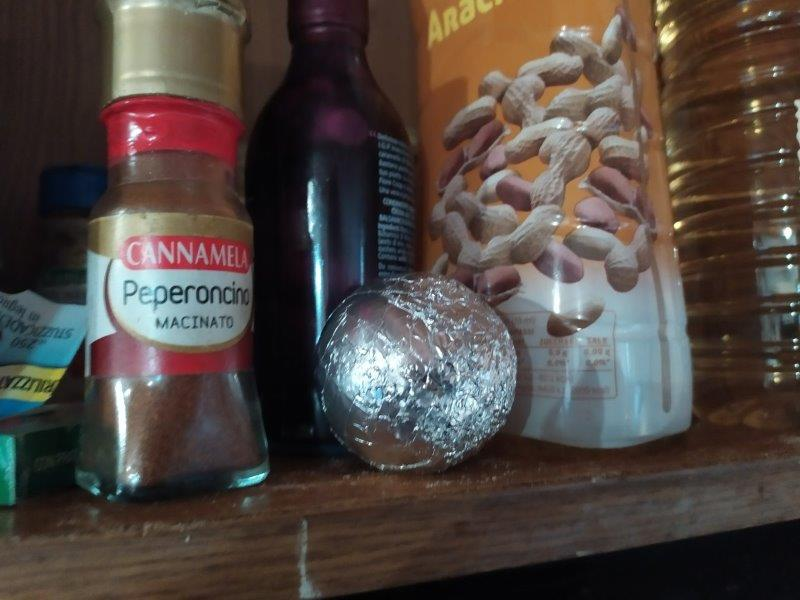bianca: (308, 267, 523, 472)
